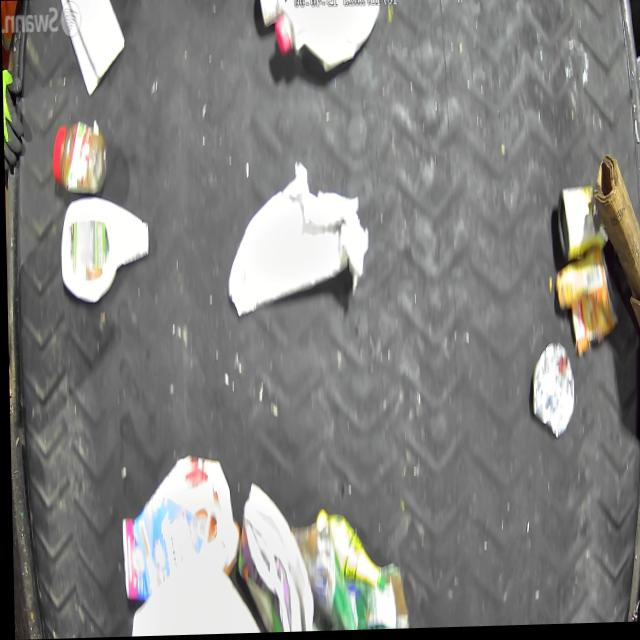can: (551, 250, 619, 361), (554, 187, 605, 265)
milk_jug: (125, 550, 263, 637), (274, 0, 381, 76)
